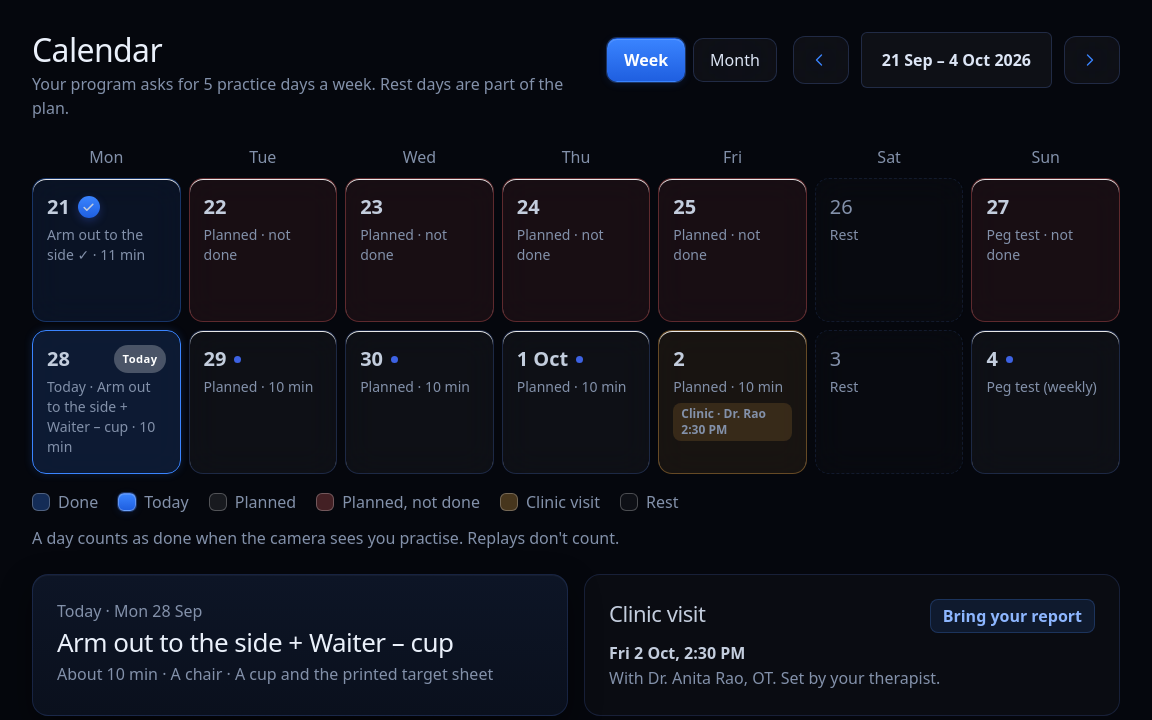
Test case: week view shows the sample history labelled when it is in range
The width and height of the screenshot is (1152, 720).
Expected: the text "21 Sep – 4 Oct 2026" is shown, [861,32,1052,88]
Click the button named "Previous week": (821, 60) [793,36,849,84]
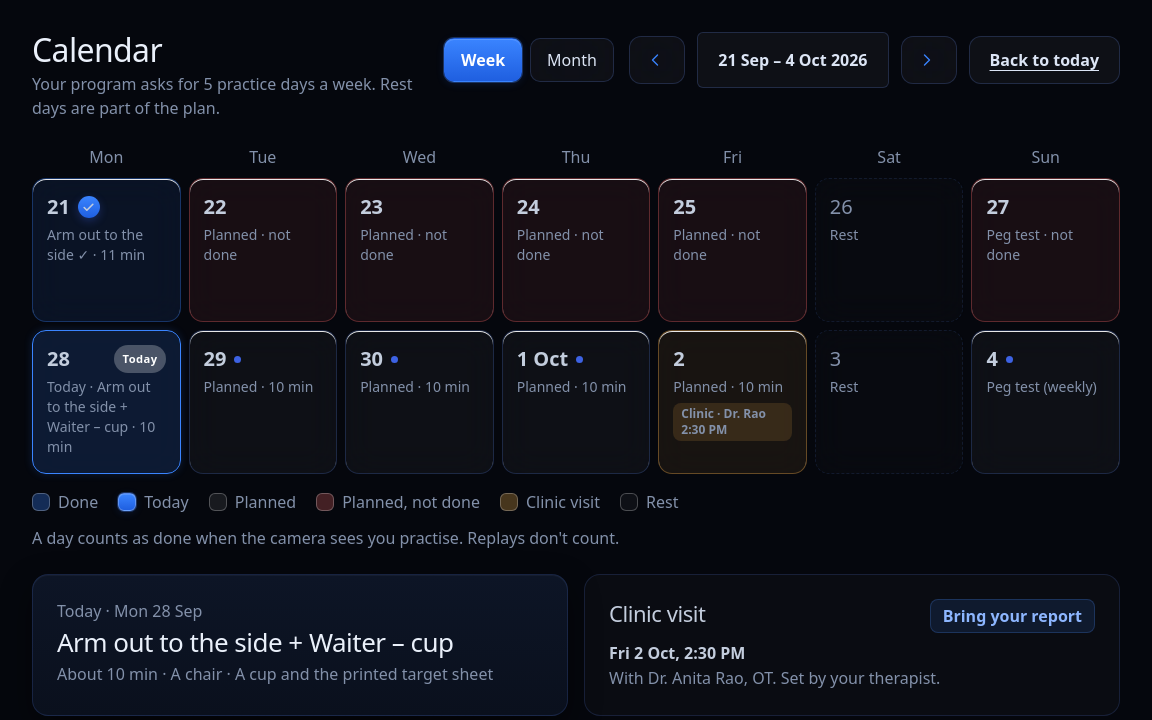
Click the button named "Previous week": (657, 60) [629,36,685,84]
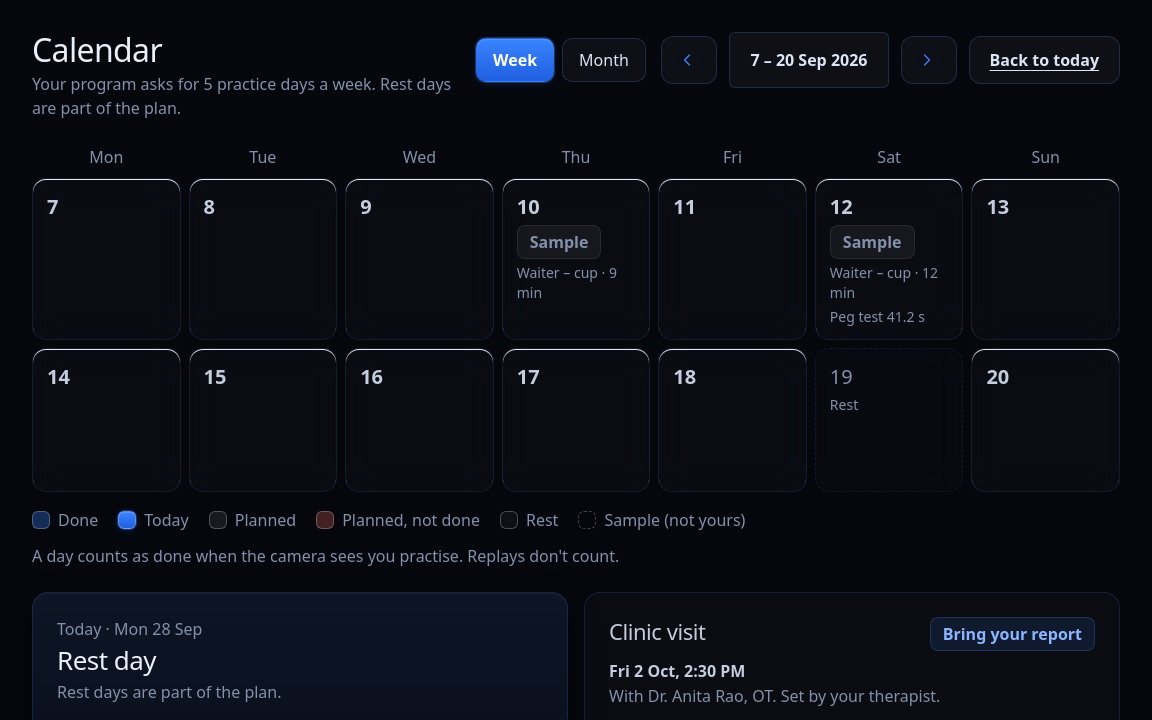
Expected: the text "7 – 20 Sep 2026" is shown, [729,32,888,88]
